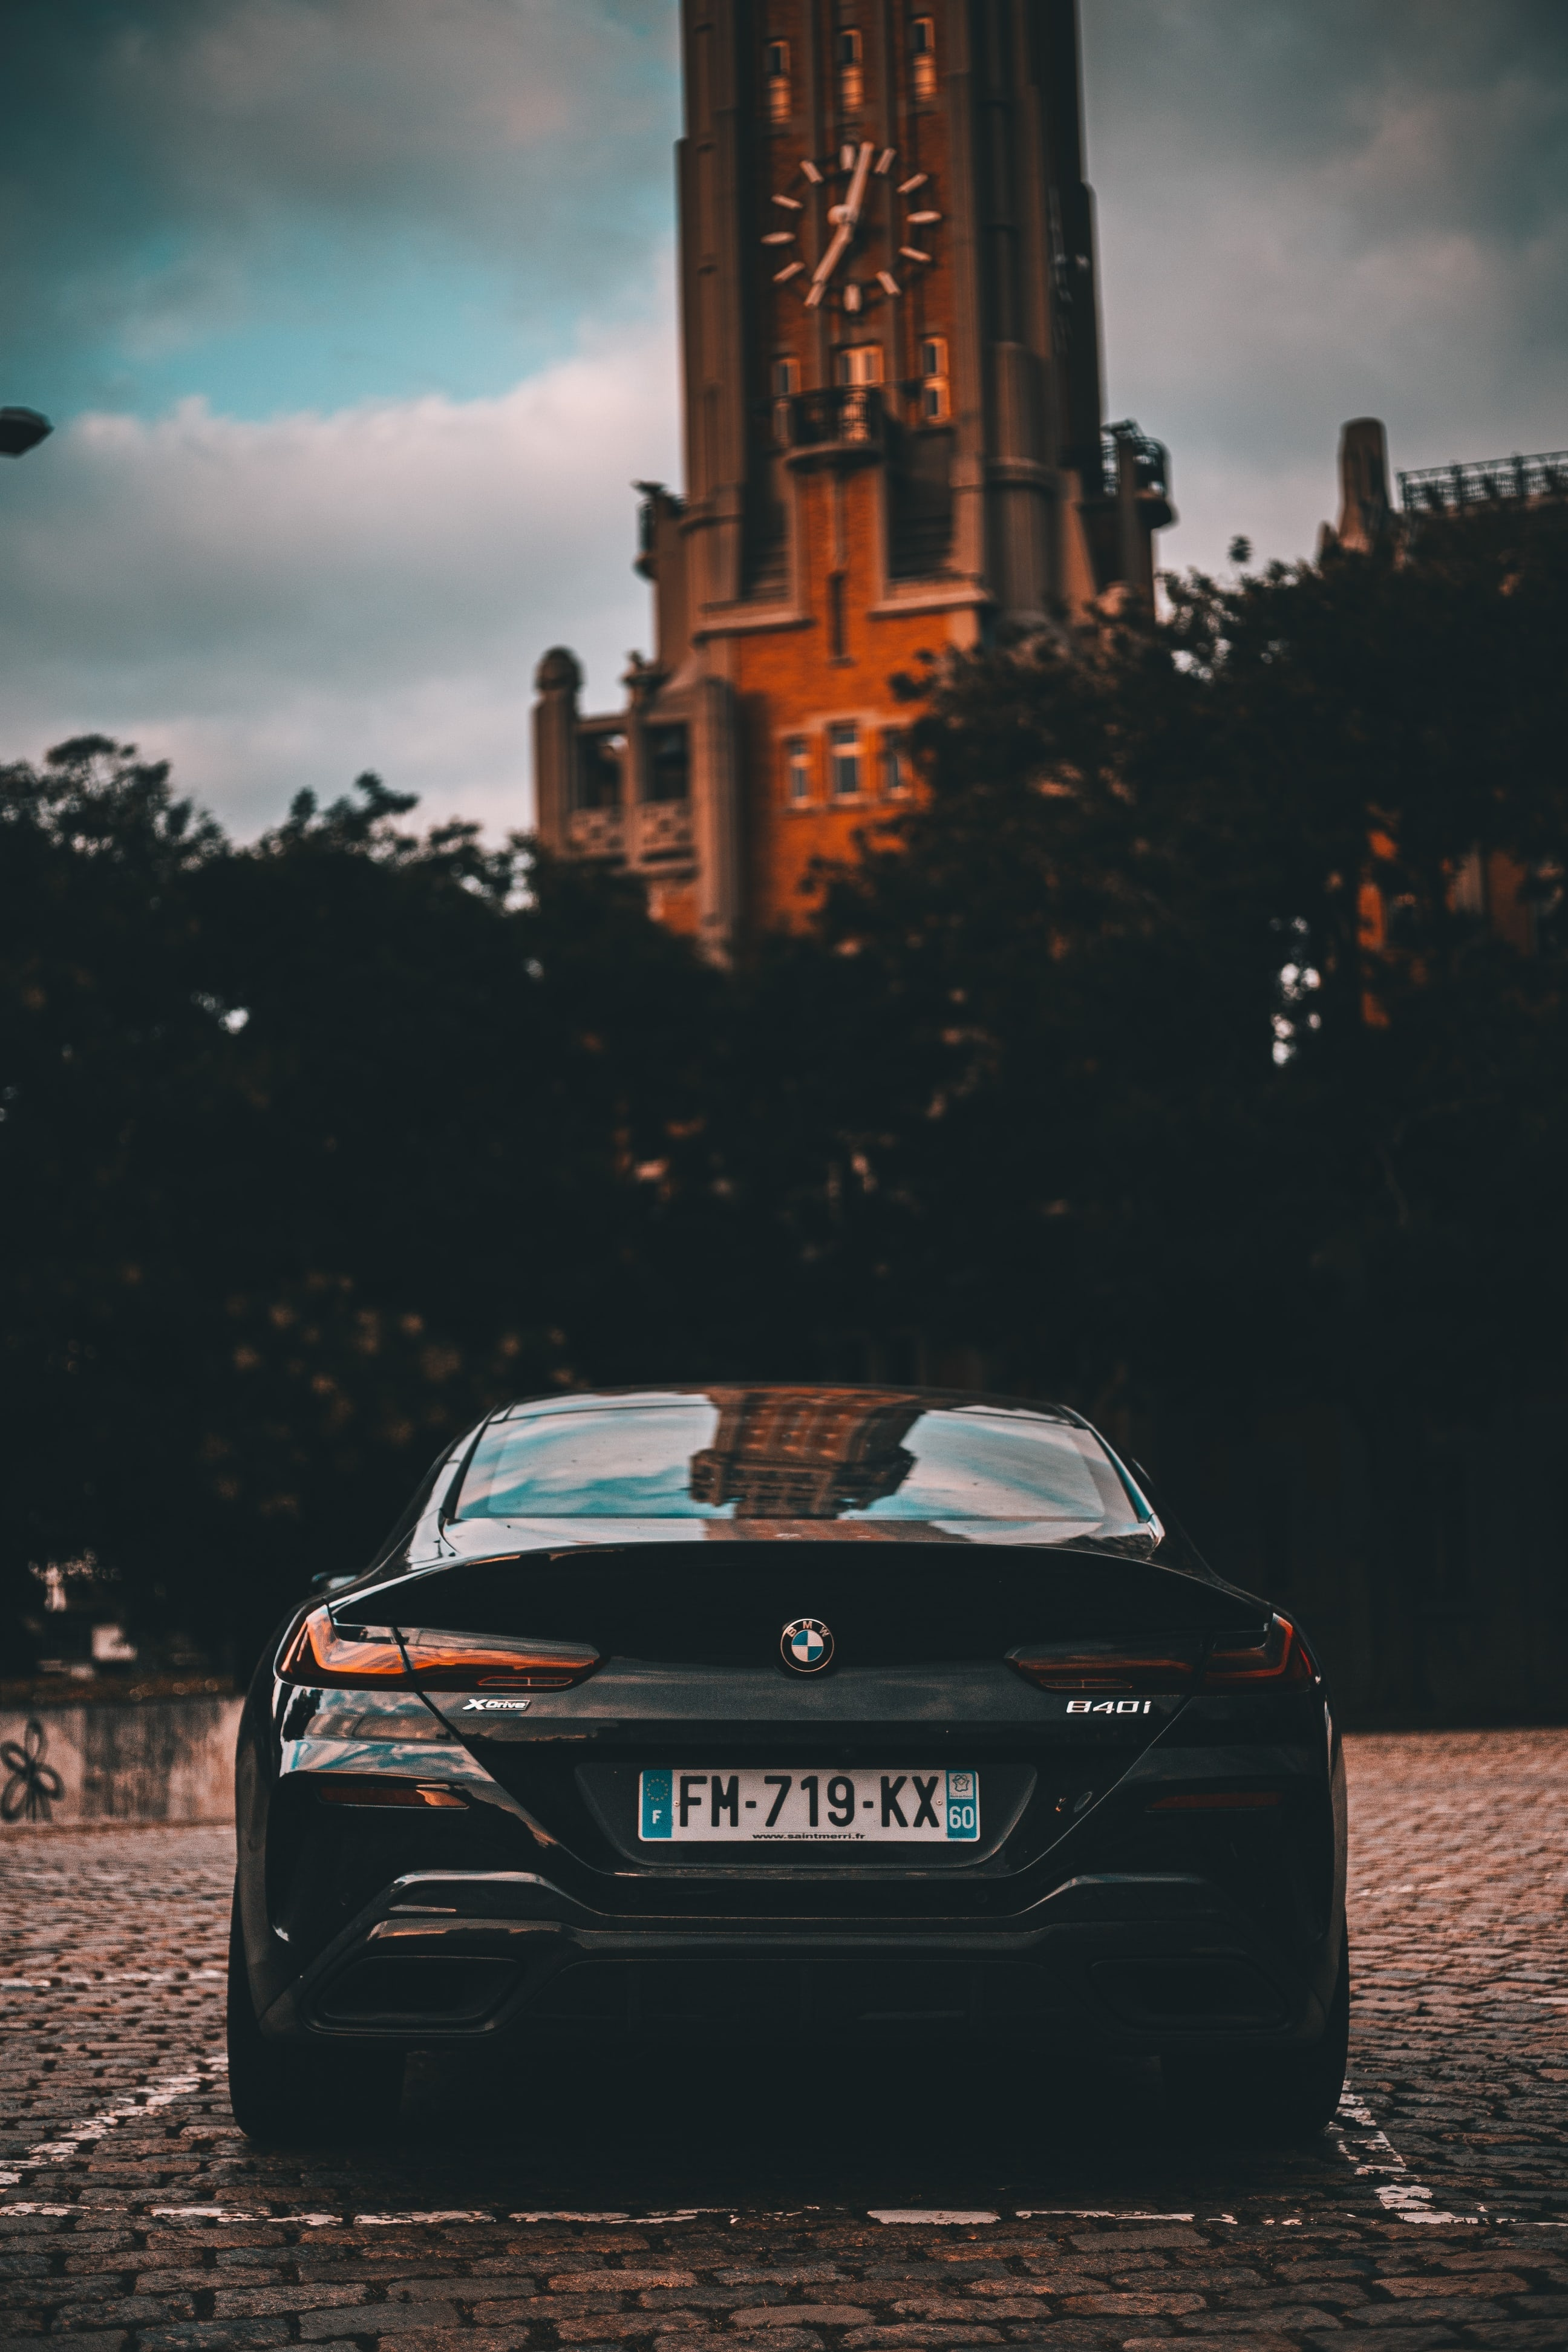plaka: (634, 1766, 982, 1844)
